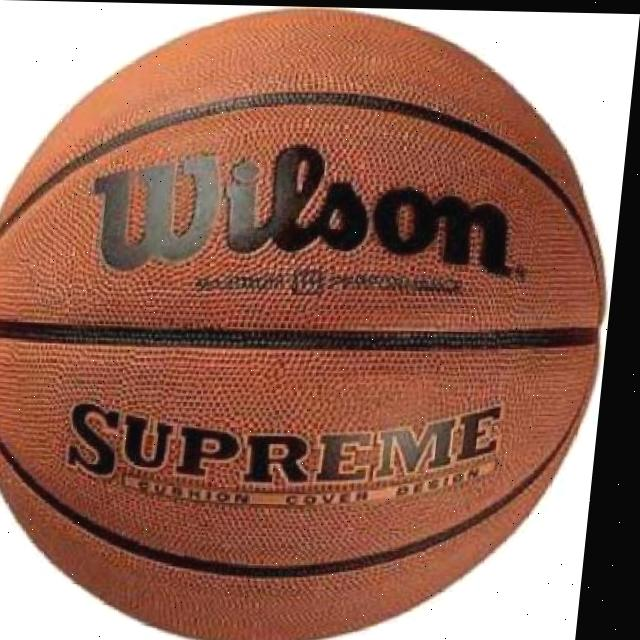Basketball: (0, 4, 633, 640)
